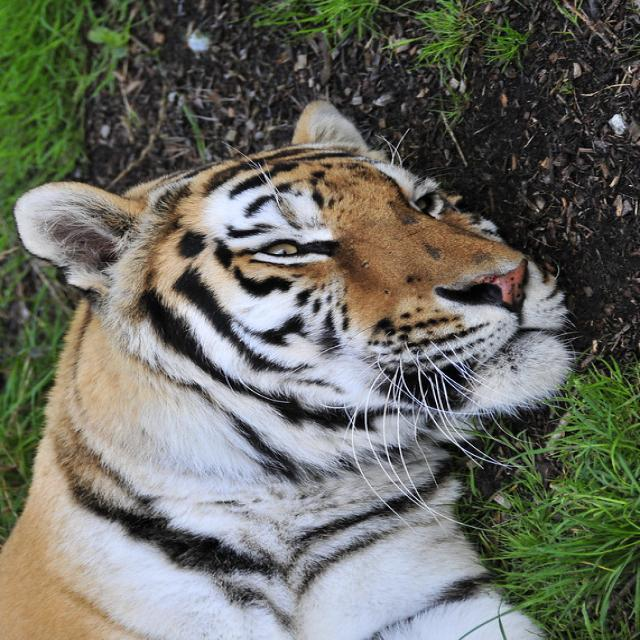Tiger: (0, 94, 583, 639)
